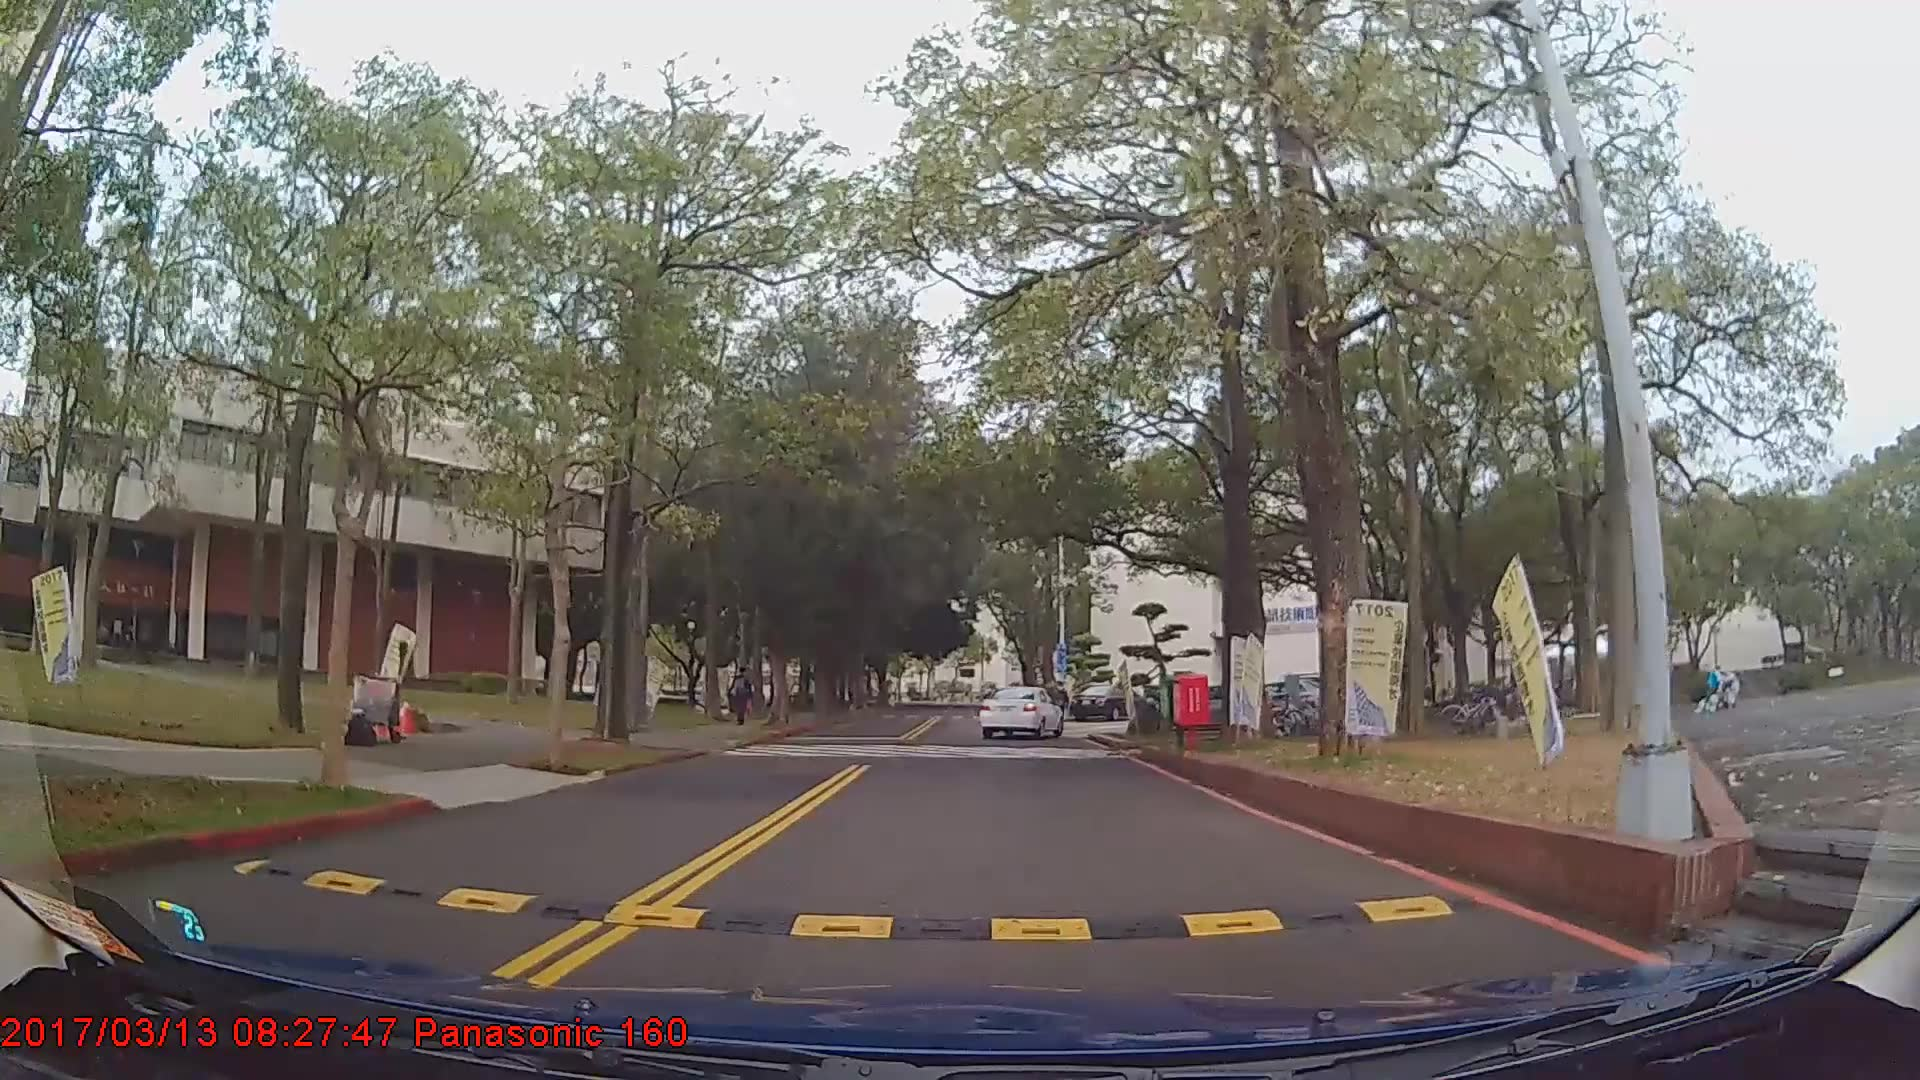pedestrian: (725, 665, 757, 728)
vehicle: (978, 685, 1064, 740), (1069, 682, 1141, 720)
